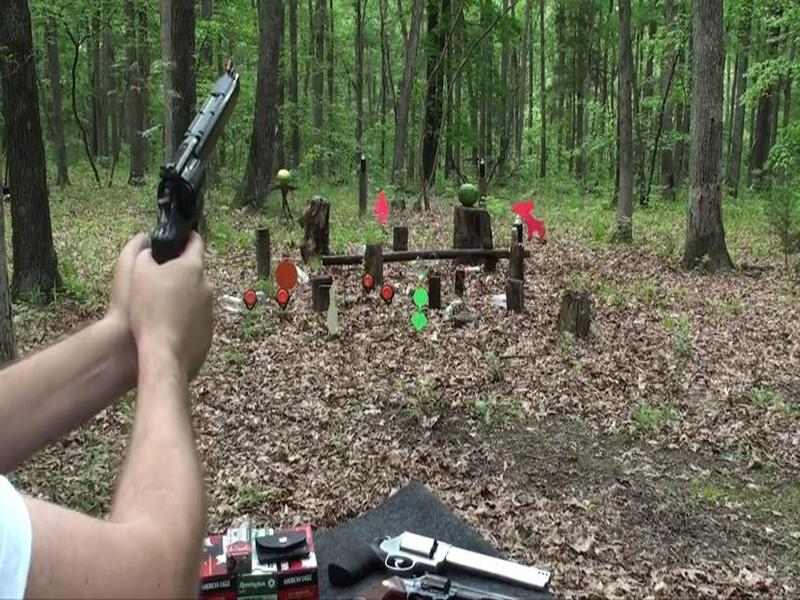Revolver: (125, 58, 275, 285)
